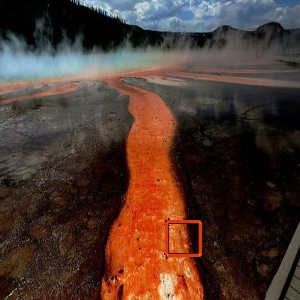square: (164, 218, 203, 258)
